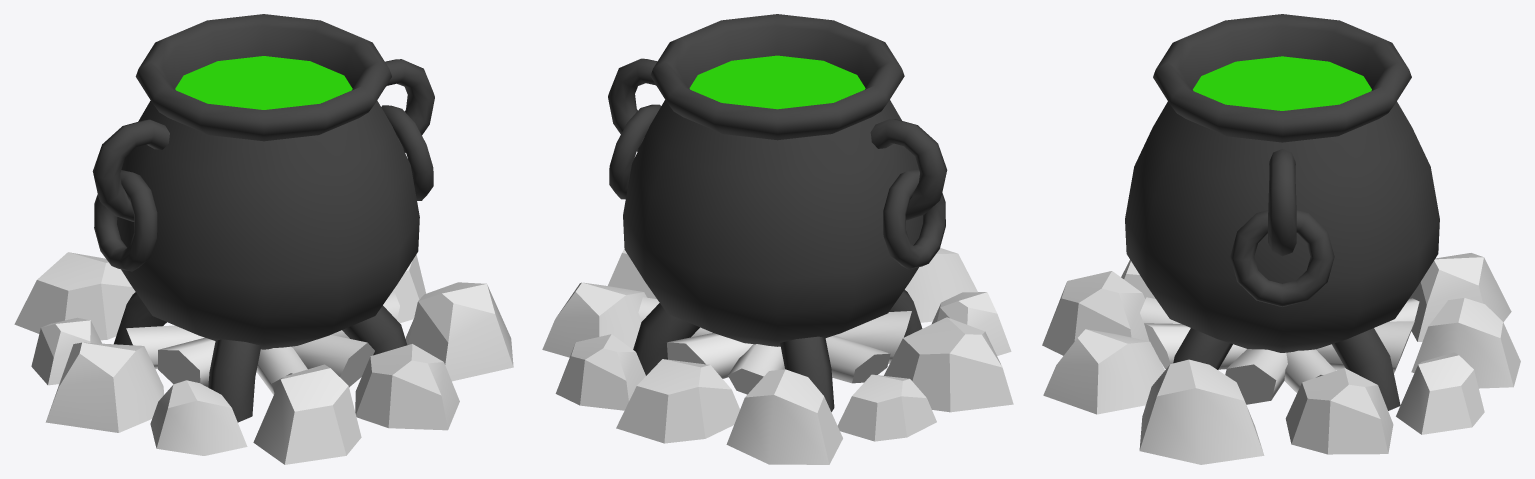
The model's file is Cauldron_MSH.fbx.
3 views of the same model, side by side, from view 1: azimuth 30°, elevation 25°; view 2: azimuth 150°, elevation 25°; view 3: azimuth 270°, elevation 25° (orthographic).
Parts seen in each view (by area): view 1: Cauldron, Cookingfire; view 2: Cauldron, Cookingfire; view 3: Cauldron, Cookingfire.
Boxes of the visible parts, x1,y1,x2,y2 form: Cauldron: (92, 14, 434, 422); Cookingfire: (14, 252, 513, 464); Cauldron: (608, 14, 947, 411); Cookingfire: (542, 248, 1013, 464); Cauldron: (1125, 14, 1439, 410); Cookingfire: (1042, 253, 1520, 464).
Size of the model in its own units: 258 by 170 by 244.
